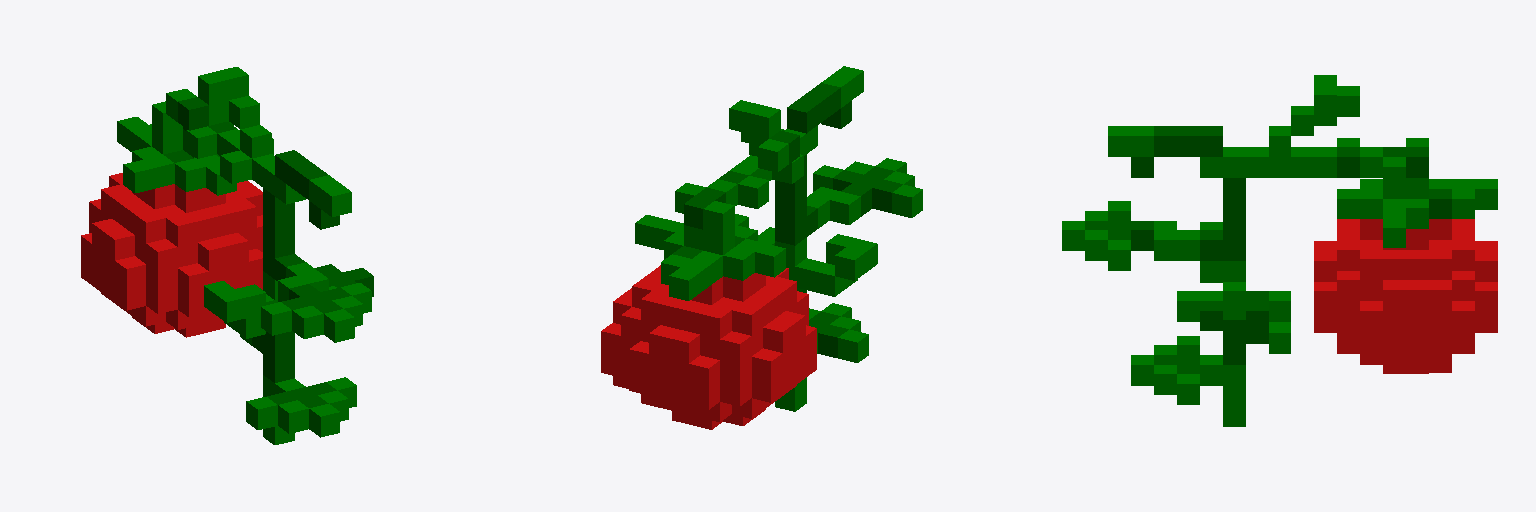
3 renders of one model, left to right at view 1: azimuth 30°, elevation 25°; view 2: azimuth 150°, elevation 25°; view 3: azimuth 270°, elevation 25°, orthographic.
Parts seen in each view (by area): view 1: object 1; view 2: object 1; view 3: object 1.
Boxes of the visible parts, x1,y1,x2,y2 form: object 1: [81, 67, 373, 444]; object 1: [601, 66, 922, 429]; object 1: [1062, 75, 1497, 426].
Bounding box in the file's own units: 0.9 × 1.6 × 1.9.
Materials: 1 (1 with a texture image).